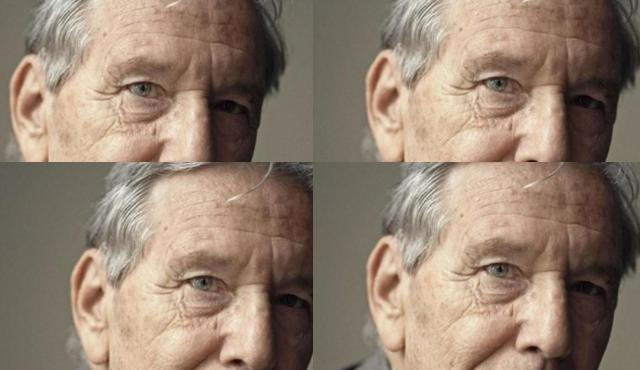crows_feet: (446, 256, 474, 290)
forehead: (114, 145, 188, 162), (132, 122, 188, 142), (476, 180, 504, 214), (332, 19, 372, 37), (380, 20, 402, 32)
frown_line: (536, 231, 552, 258), (532, 260, 558, 276), (562, 223, 574, 253), (358, 41, 368, 55)
gummy_smile: (464, 335, 493, 370)
masseter: (446, 298, 474, 322)
